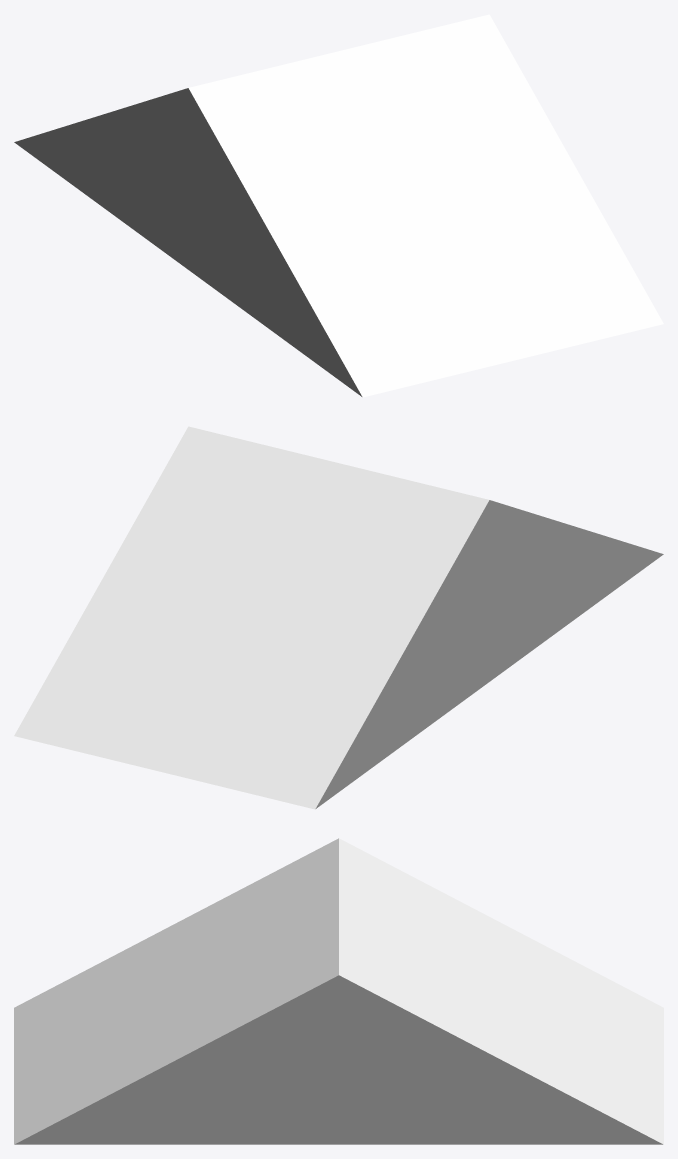
The model's file is SpineKicker_30deg_20x20x11_5.fbx.
3 renders of one model, top to bottom at view 1: azimuth 30°, elevation 25°; view 2: azimuth 150°, elevation 25°; view 3: azimuth 270°, elevation 25°, orthographic. The views are drawn at different scales.
Parts seen in each view (by area): view 1: SpineKicker_30deg_20x20x11,5; view 2: SpineKicker_30deg_20x20x11,5; view 3: SpineKicker_30deg_20x20x11,5.
Boxes of the visible parts, x1,y1,x2,y2 form: SpineKicker_30deg_20x20x11,5: [14, 14, 663, 397]; SpineKicker_30deg_20x20x11,5: [14, 426, 663, 809]; SpineKicker_30deg_20x20x11,5: [14, 838, 663, 1144].
Size of the model in its own units: 20 by 11.55 by 40.11.
